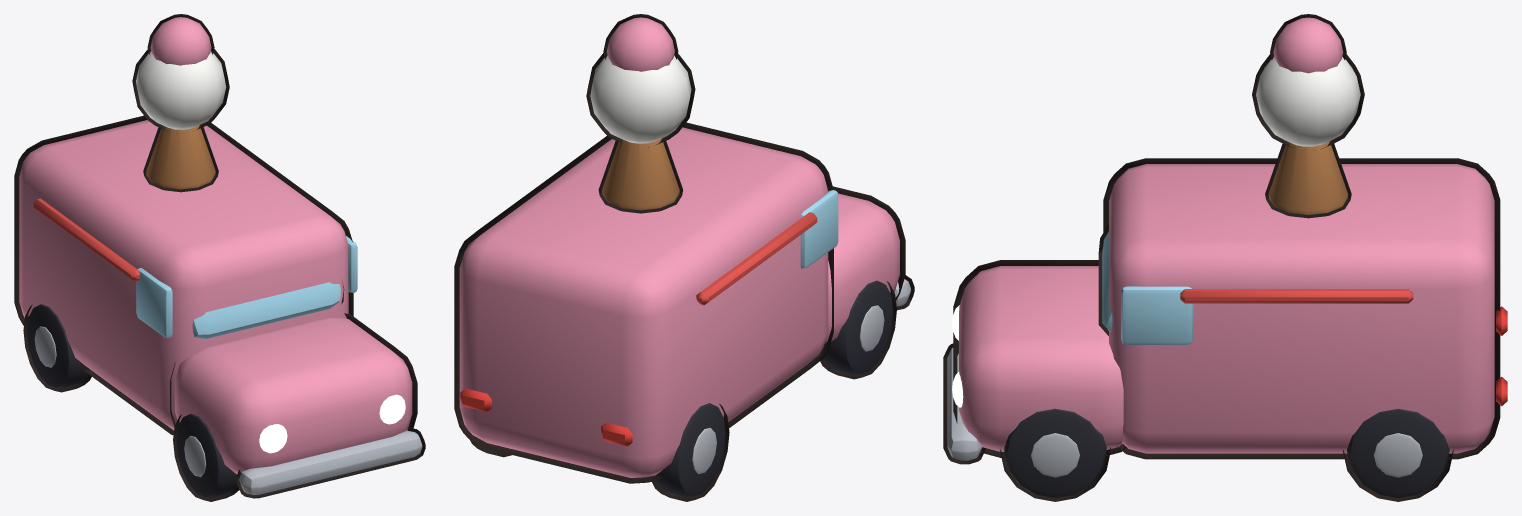
The model's file is Van_IceCream.fbx.
The picture shows the model from 3 angles, left to right: view 1: azimuth 30°, elevation 25°; view 2: azimuth 150°, elevation 25°; view 3: azimuth 270°, elevation 25°; orthographic projection. The views are drawn at different scales.
Parts seen in each view (by area): view 1: VH_Van_IceCream_Pink, VH_Van_IceCream_Outline, VH_Van_IceCream_Window, VH_Van_IceCream_MetalLight, VH_Van_IceCream_White, VH_Van_IceCream_Black, VH_Van_IceCream_Wood, VH_Van_IceCream_Awning1, VH_Van_IceCream_LampWarm; view 2: VH_Van_IceCream_Pink, VH_Van_IceCream_Outline, VH_Van_IceCream_White, VH_Van_IceCream_Black, VH_Van_IceCream_Wood, VH_Van_IceCream_Window, VH_Van_IceCream_MetalLight, VH_Van_IceCream_Awning1, VH_Van_IceCream_Red; view 3: VH_Van_IceCream_Pink, VH_Van_IceCream_Outline, VH_Van_IceCream_Black, VH_Van_IceCream_White, VH_Van_IceCream_MetalLight, VH_Van_IceCream_Window, VH_Van_IceCream_Wood, VH_Van_IceCream_Awning1.
Part boxes in pixels (x1,y1,x2,y2): VH_Van_IceCream_Pink: (19, 17, 412, 474); VH_Van_IceCream_Outline: (14, 14, 425, 501); VH_Van_IceCream_Window: (136, 236, 357, 338); VH_Van_IceCream_MetalLight: (34, 326, 422, 494); VH_Van_IceCream_White: (136, 51, 226, 129); VH_Van_IceCream_Black: (27, 304, 237, 498); VH_Van_IceCream_Wood: (146, 125, 215, 189); VH_Van_IceCream_Awning1: (33, 198, 140, 281); VH_Van_IceCream_LampWarm: (259, 394, 405, 453); VH_Van_IceCream_Pink: (459, 17, 899, 477); VH_Van_IceCream_Outline: (454, 14, 914, 501); VH_Van_IceCream_White: (590, 55, 691, 143); VH_Van_IceCream_Black: (481, 280, 892, 497); VH_Van_IceCream_Wood: (602, 138, 679, 210); VH_Van_IceCream_Window: (800, 190, 838, 268); VH_Van_IceCream_MetalLight: (692, 279, 910, 474); VH_Van_IceCream_Awning1: (696, 212, 817, 305); VH_Van_IceCream_Red: (460, 388, 632, 446); VH_Van_IceCream_Pink: (959, 17, 1494, 453); VH_Van_IceCream_Outline: (943, 14, 1500, 501); VH_Van_IceCream_Black: (1004, 408, 1449, 497); VH_Van_IceCream_White: (1256, 57, 1360, 146); VH_Van_IceCream_MetalLight: (947, 347, 1422, 477); VH_Van_IceCream_Window: (1102, 231, 1193, 344); VH_Van_IceCream_Wood: (1268, 141, 1348, 214); VH_Van_IceCream_Awning1: (1180, 289, 1413, 303).
Size of the model in its own units: 2.36 by 4.11 by 4.84.
